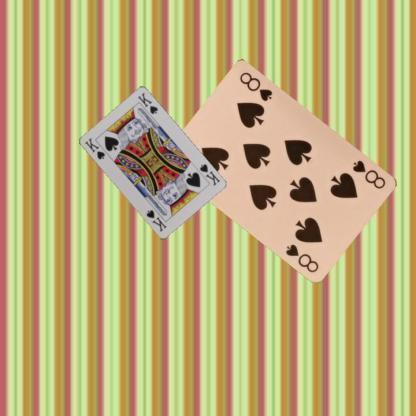8s: (350, 157, 387, 190)
Ks: (197, 161, 221, 187), (82, 136, 106, 160)
